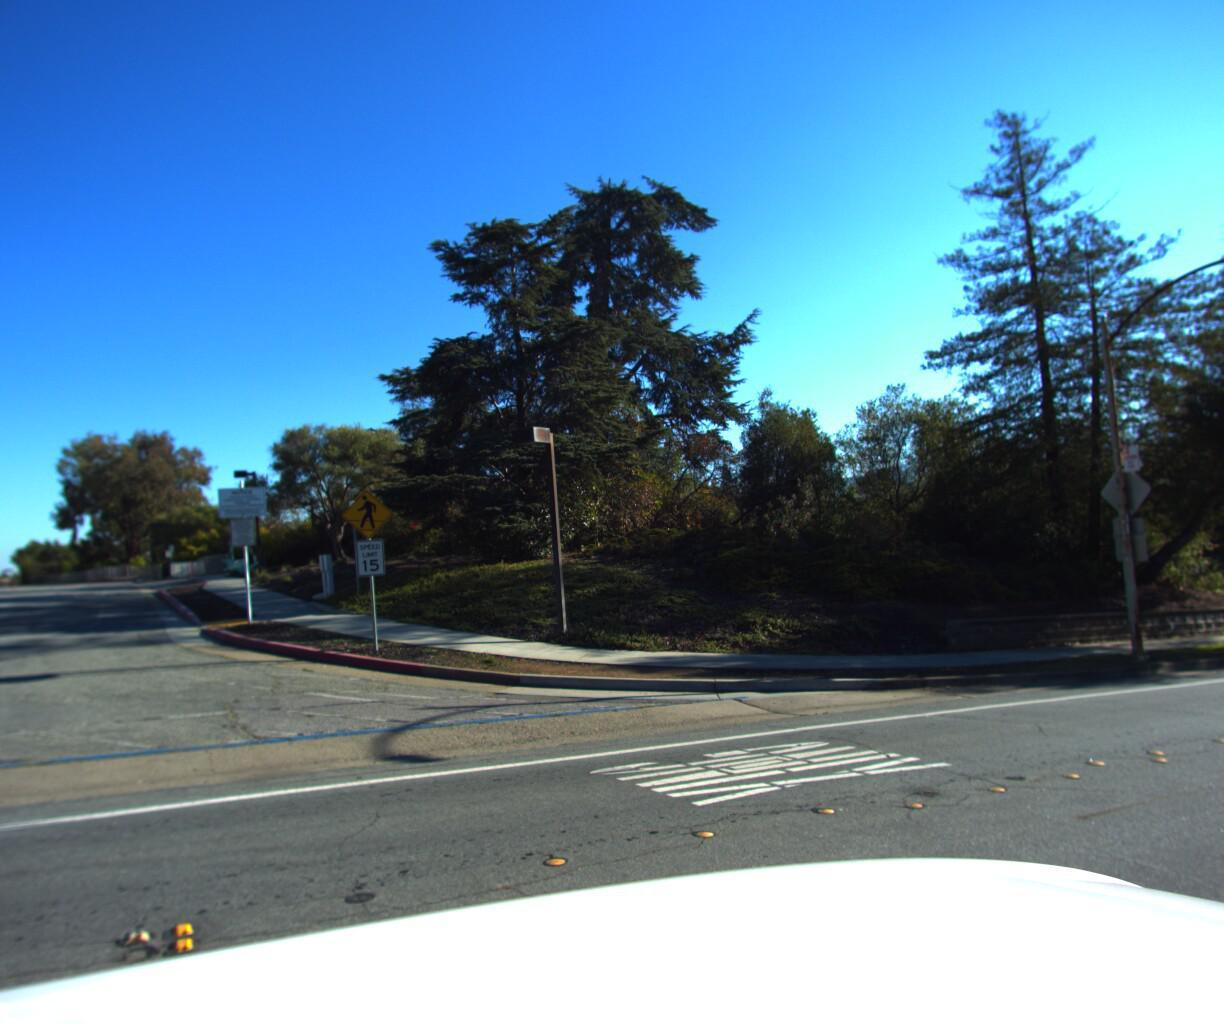other_vehicle: (220, 532, 278, 581)
